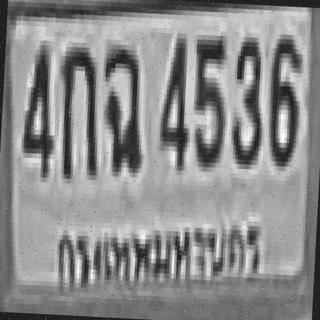A01: (54, 42, 100, 175)
A09: (98, 42, 144, 171)
N03: (228, 32, 265, 165)
N04: (20, 40, 57, 178), (156, 33, 191, 166)
N05: (189, 32, 228, 166)
N06: (265, 29, 302, 162)
P04: (50, 199, 266, 310)
